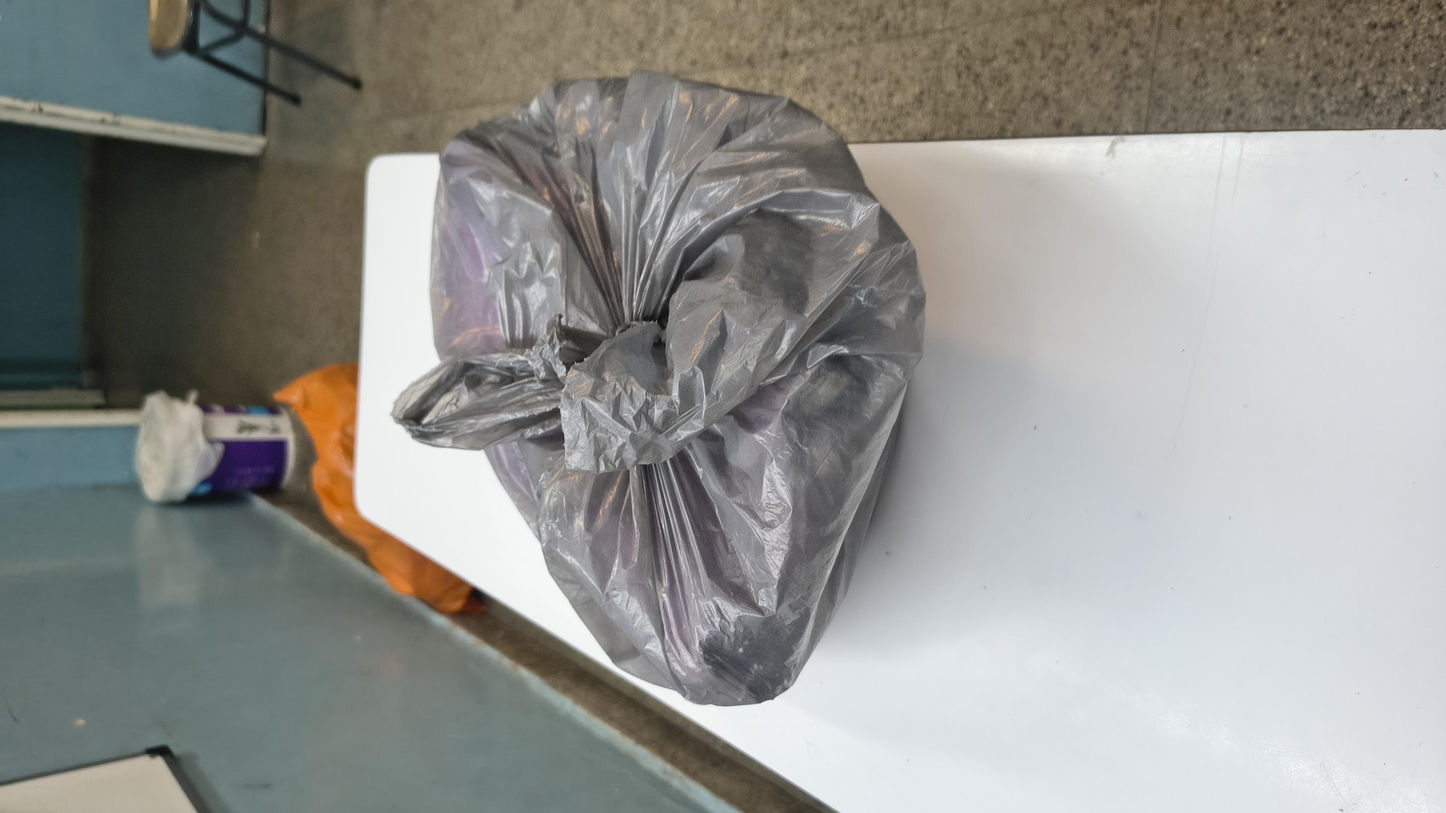Garbage: (151, 195, 1425, 534)
